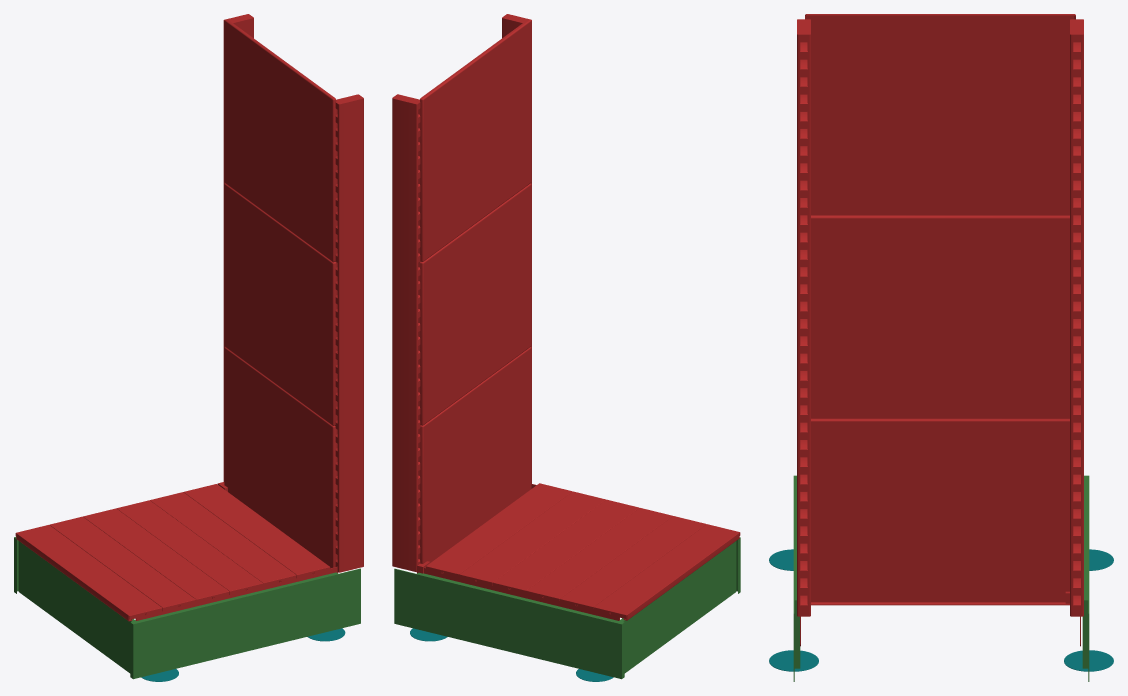
File: SM_Shelves_Base_04.fbx
The picture shows the model from 3 angles, left to right: view 1: azimuth 30°, elevation 25°; view 2: azimuth 150°, elevation 25°; view 3: azimuth 270°, elevation 25°; orthographic projection. The views are drawn at different scales.
Parts seen in each view (by area): view 1: SM_Shelves_Base_04; view 2: SM_Shelves_Base_04; view 3: SM_Shelves_Base_04.
Part boxes in pixels (x1,y1,x2,y2): SM_Shelves_Base_04: [14, 14, 363, 681]; SM_Shelves_Base_04: [392, 14, 740, 681]; SM_Shelves_Base_04: [769, 14, 1113, 681].
Size of the model in its own units: 73.77 by 159 by 75.76.
